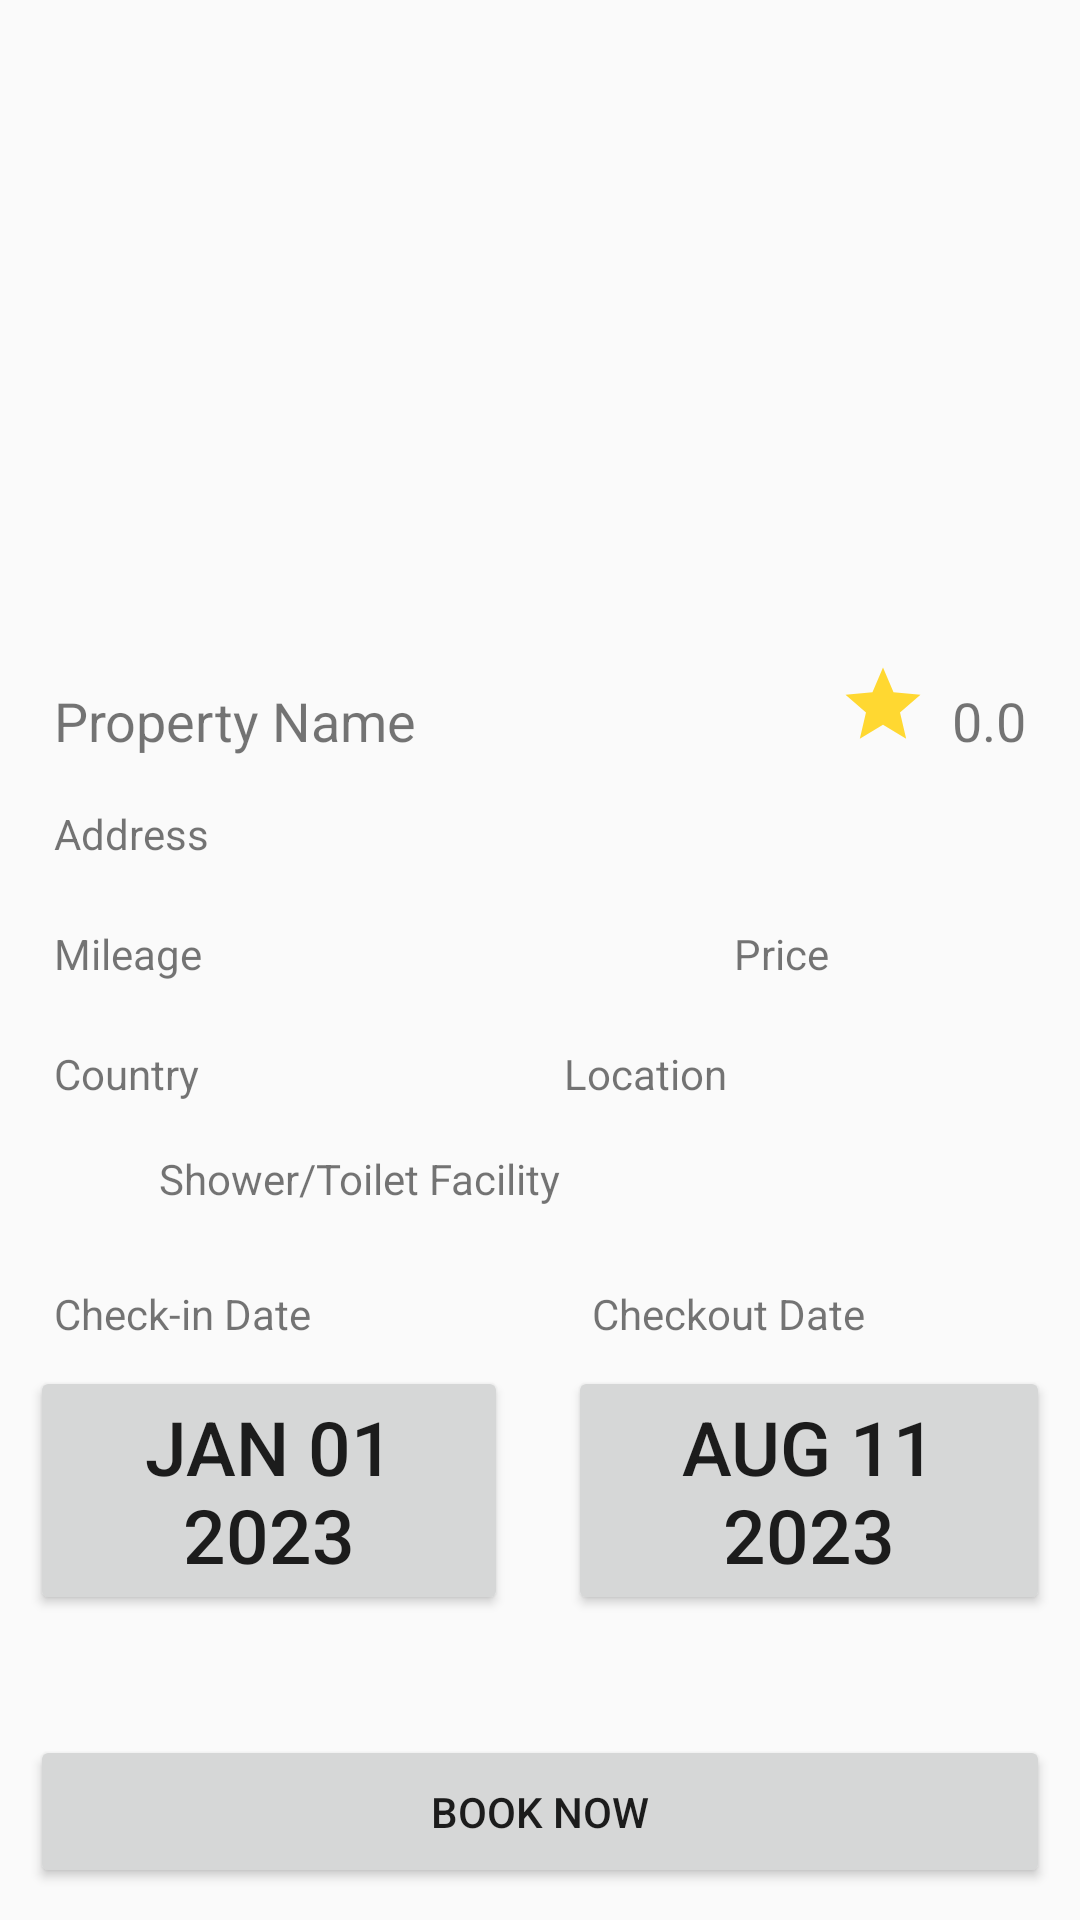

Screen size 1080px×1920px. Icon name, then its center in pixels as [x,y]:
star: [883,703]
